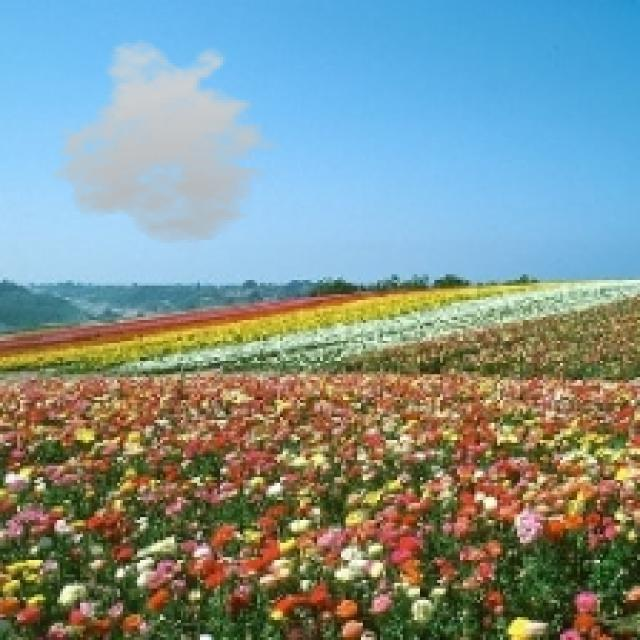smoke: (49, 37, 294, 246)
